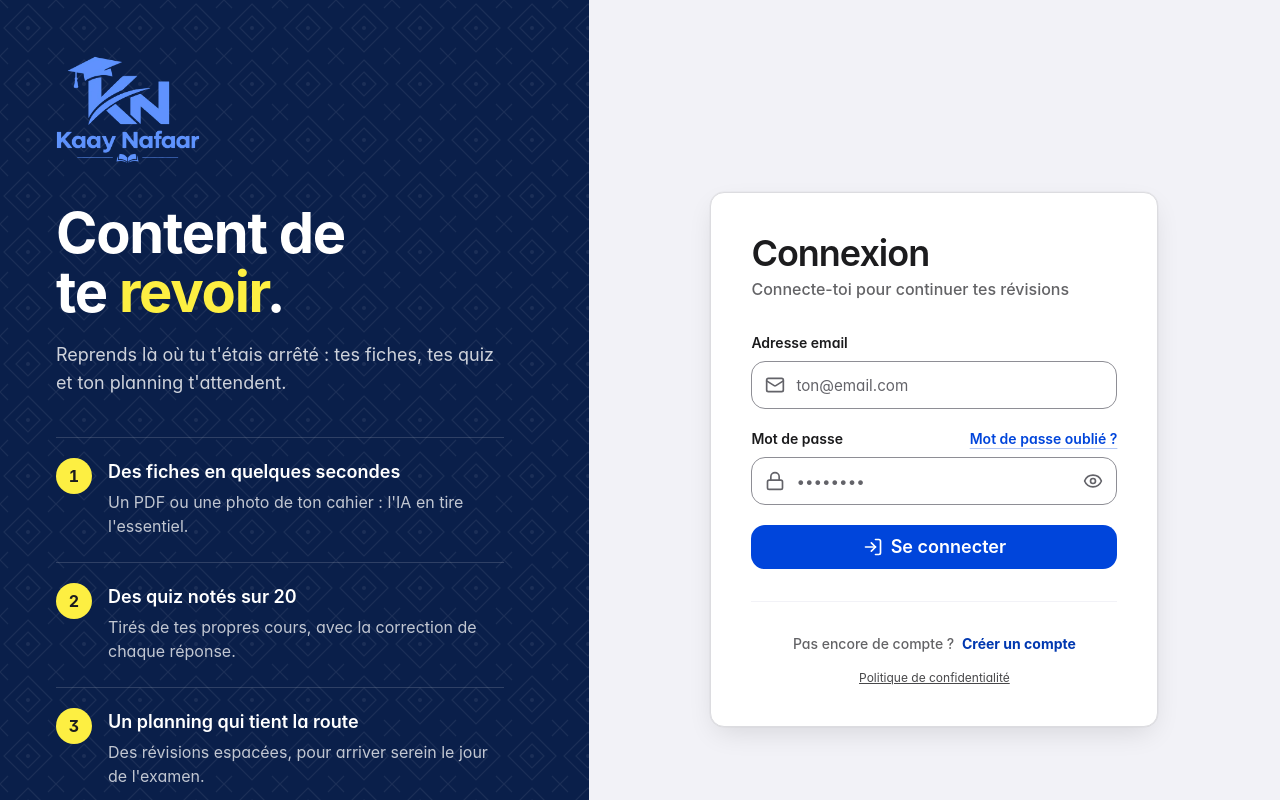
Test: Page Connexion › refuse un email invalide sans appeler le serveur
Type "pas-un-email" into the field labelled "Adresse email" at [934, 385], box 751,361 -> 1117,409
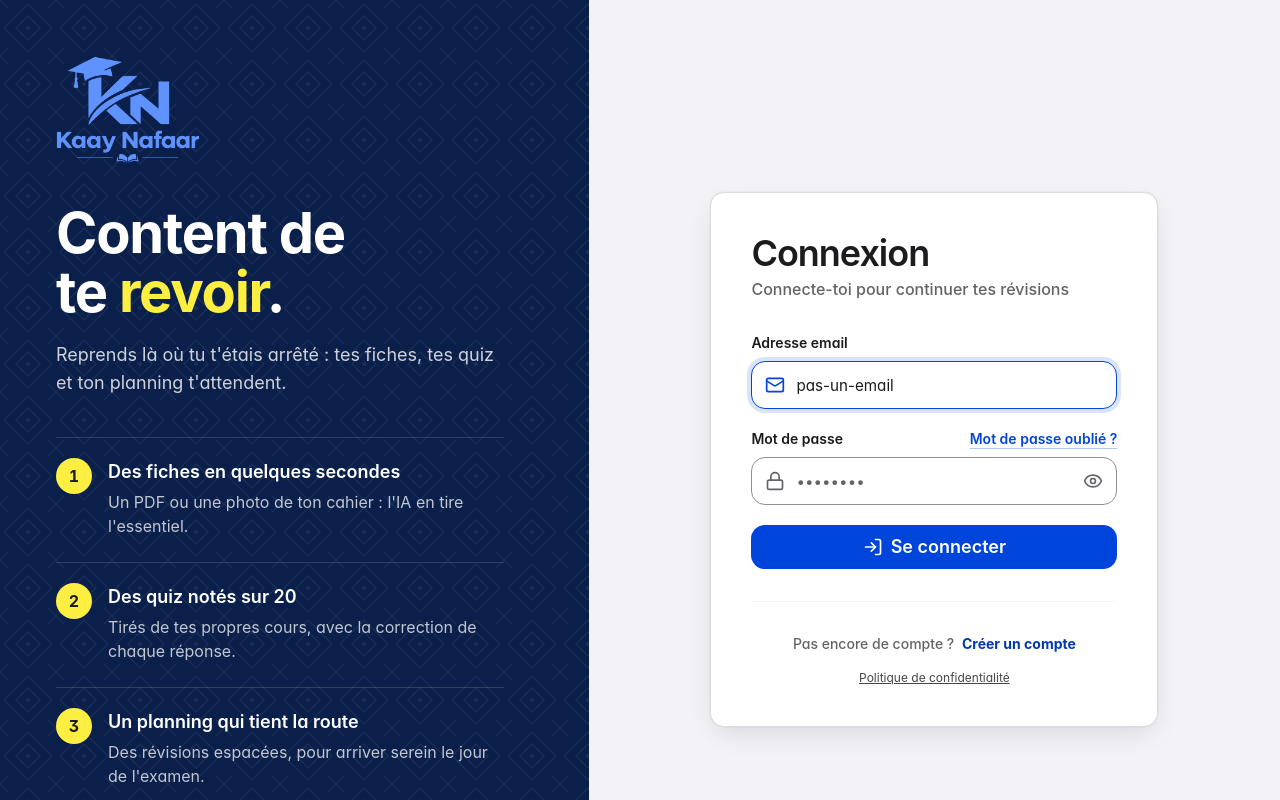
Type "motdepasse1" into the password field labelled "Mot de passe" at [934, 481], box 751,457 -> 1117,505
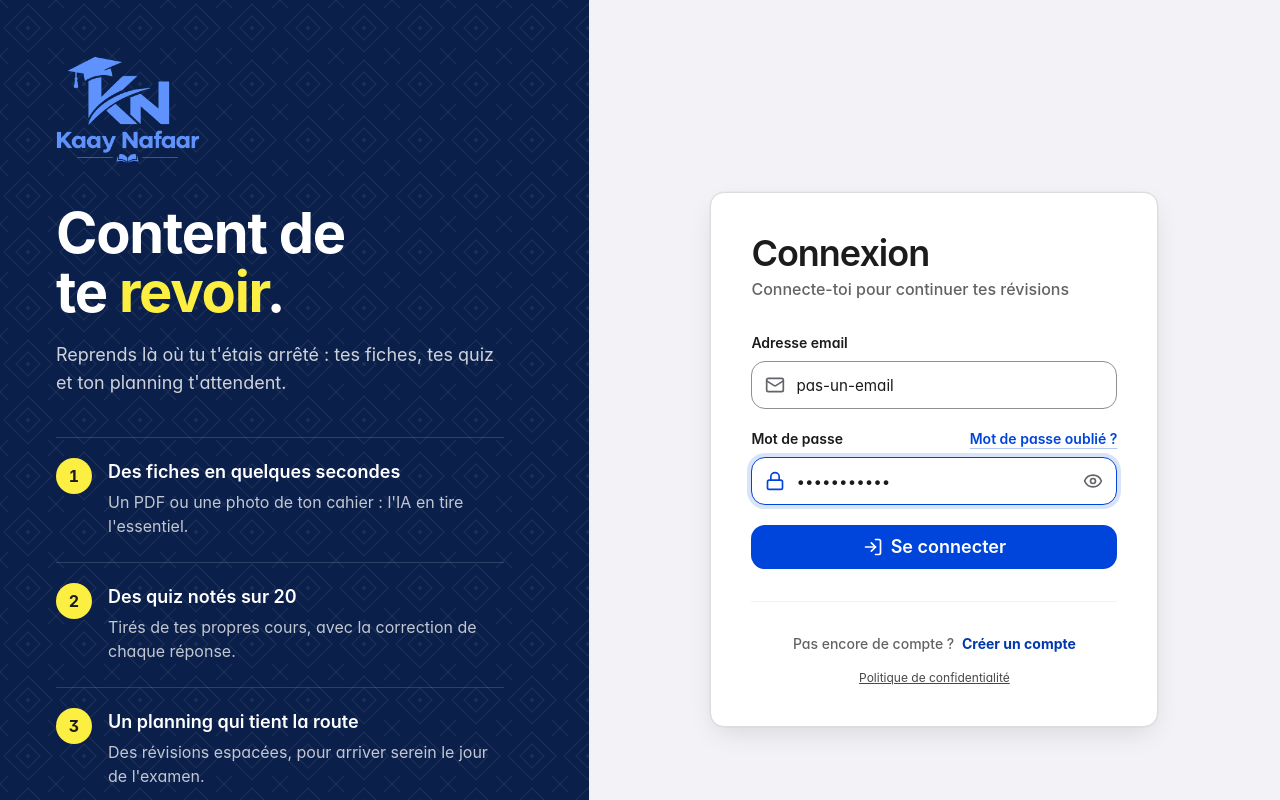
Click the button "Se connecter" at [934, 547], box 751,525 -> 1117,569
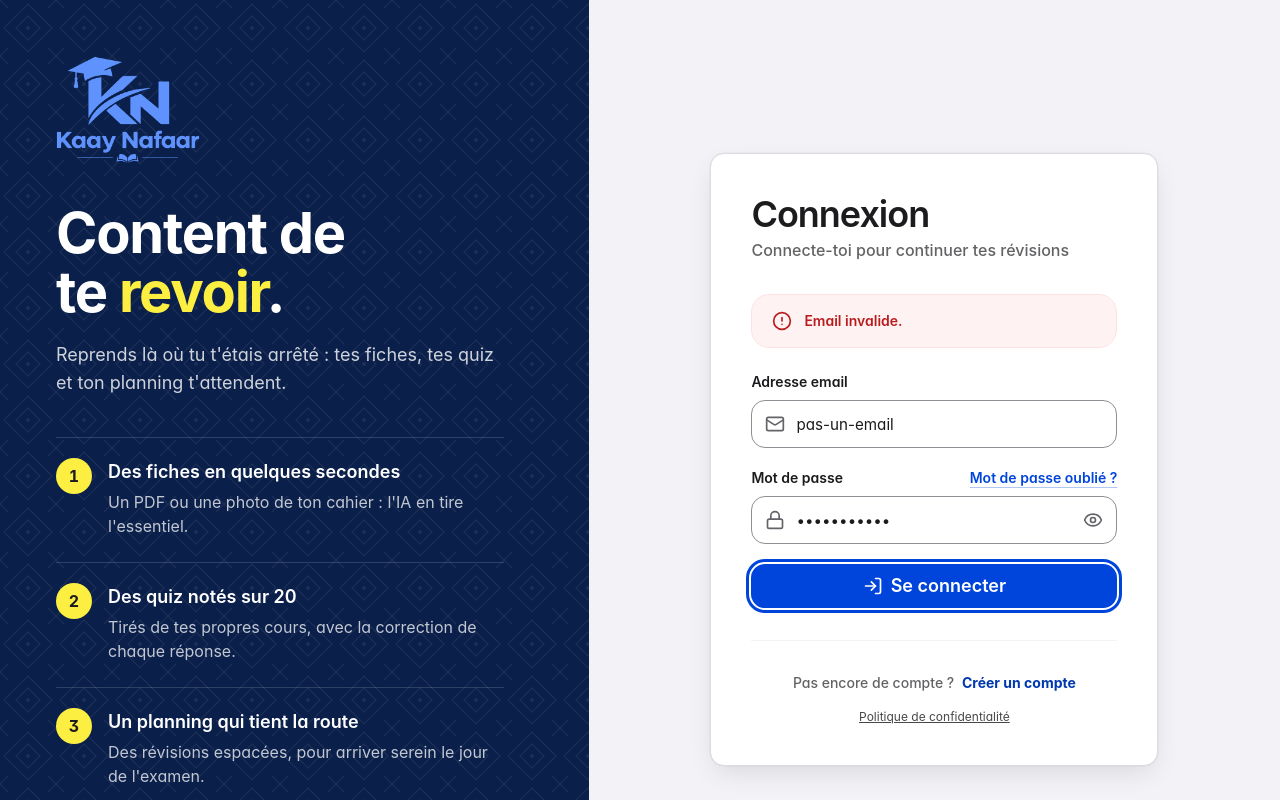
Expected: the message shows "Email invalide", 804,312 -> 903,329
